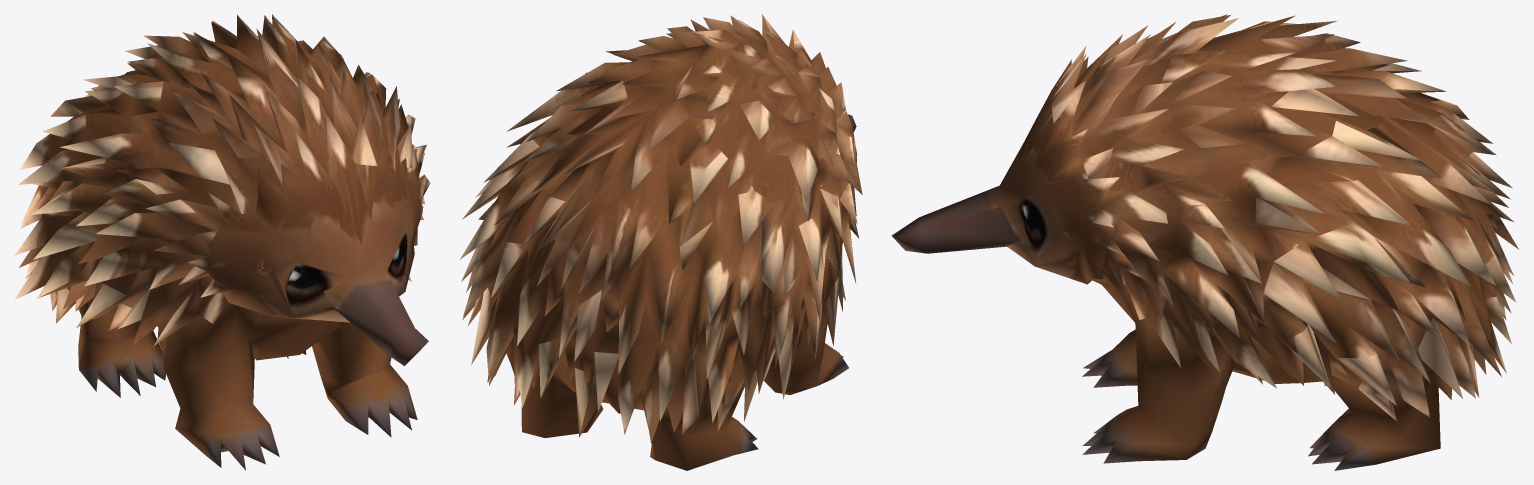
Rendered from echidna.glb.
3 renders of one model, left to right at view 1: azimuth 30°, elevation 25°; view 2: azimuth 150°, elevation 25°; view 3: azimuth 270°, elevation 25°, orthographic. The views are drawn at different scales.
Visible parts, largest first — view 1: model; view 2: model; view 3: model.
Part boxes in pixels (x1,y1,x2,y2): model: [14, 14, 430, 470]; model: [460, 14, 862, 470]; model: [891, 14, 1518, 470].
Bounding box in the file's own units: 1.34 × 1.34 × 1.93.
1 material, 1 textured.
